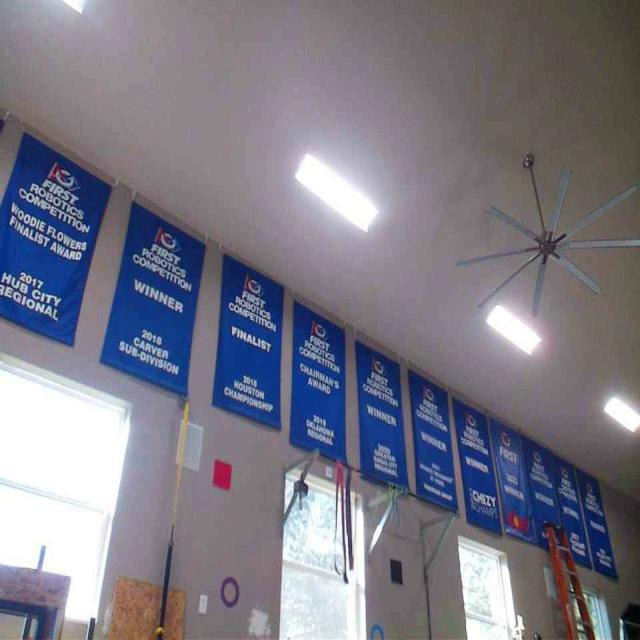ring_purple: (219, 577, 240, 606)
square_black: (389, 556, 403, 584)
square_red: (210, 460, 232, 490)
